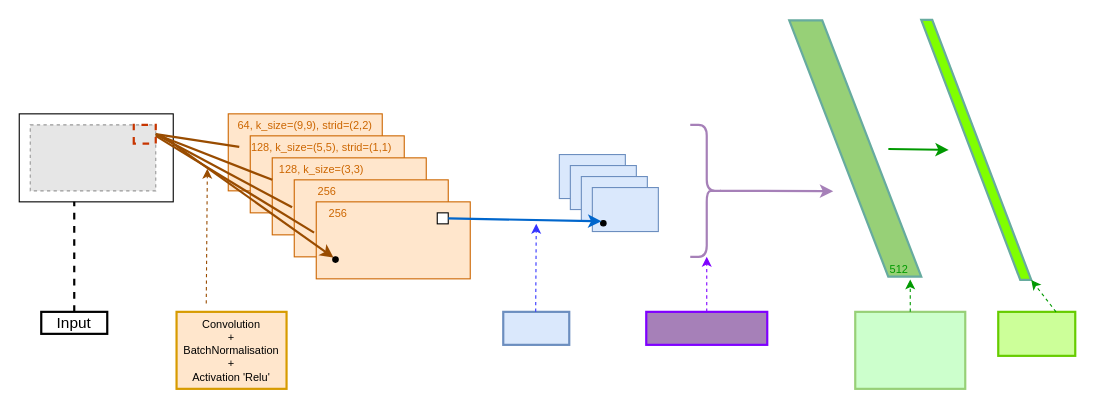
This 1096x409 diagram has some shape labels left out. Grey dashed boxes stand in for pictures. Each missing label, with the centre of its shape:
"Dense + BatchNormalisation + Activation 'Relu'" goes at (x=910, y=349).
"GlobalAveragePooling" goes at (x=706, y=327).
"MaxPooling" goes at (x=536, y=327).
"Softmax 8004 classes" goes at (x=1036, y=333).
